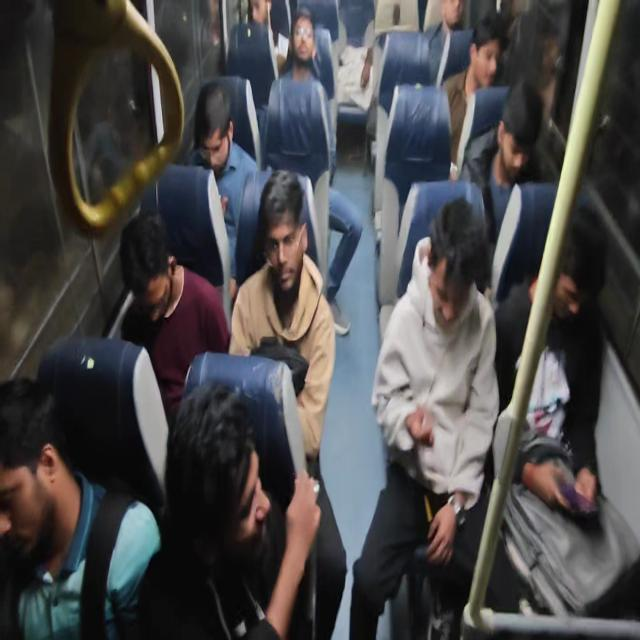person: (349, 196, 500, 638), (228, 169, 348, 637), (136, 379, 322, 639), (0, 375, 162, 639), (492, 206, 606, 516), (396, 80, 546, 298), (263, 8, 363, 334), (118, 210, 230, 422), (185, 79, 259, 296), (464, 79, 544, 242), (440, 14, 507, 180), (226, 0, 278, 110), (422, 0, 470, 86)
